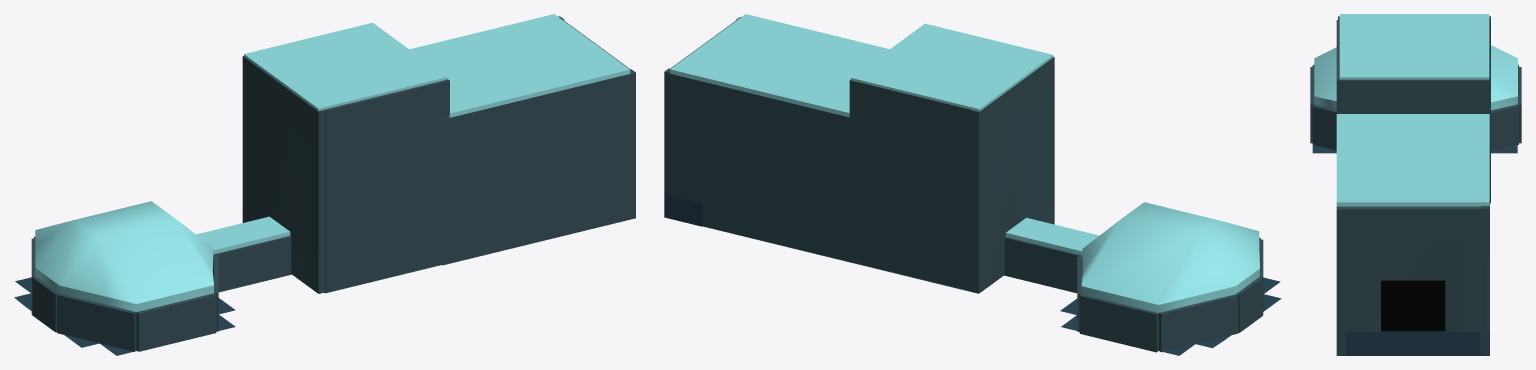
Rendered from TemplerInterior_4Unity_SceneOptimized.fbx.
3 views of the same model, side by side, from view 1: azimuth 30°, elevation 25°; view 2: azimuth 150°, elevation 25°; view 3: azimuth 270°, elevation 25° (orthographic).
Visible parts, largest first — view 1: Temple_Backroom_Walls, Temple_MainRoom_Walls, polySurface89, polySurface92, Garden_Walls, polySurface91, polySurface93, Garden_Floor; view 2: Temple_Backroom_Walls, Temple_MainRoom_Walls, polySurface89, polySurface92, Garden_Walls, polySurface91, polySurface93, Garden_Floor, Temple_Entry_Floor; view 3: Temple_MainRoom_Walls, polySurface92, polySurface91, Temple_Backroom_Walls, Temple_Entry_Floor, Black_Wall, polySurface89, Garden_Walls, Garden_Floor.
Part boxes in pixels (x1,y1,x2,y2): Temple_Backroom_Walls: (242, 56, 449, 293); Temple_MainRoom_Walls: (442, 16, 635, 265); polySurface89: (35, 201, 213, 311); polySurface92: (409, 14, 630, 117); Garden_Walls: (31, 236, 291, 351); polySurface91: (244, 22, 447, 110); polySurface93: (196, 216, 290, 254); Garden_Floor: (14, 277, 235, 355); Temple_Backroom_Walls: (849, 57, 1054, 293); Temple_MainRoom_Walls: (664, 17, 856, 263); polySurface89: (1081, 202, 1259, 312); polySurface92: (670, 14, 889, 117); Garden_Walls: (1004, 237, 1263, 352); polySurface91: (851, 23, 1053, 111); polySurface93: (1005, 217, 1099, 255); Garden_Floor: (1060, 277, 1281, 355); Temple_Entry_Floor: (664, 193, 702, 226); Temple_MainRoom_Walls: (1336, 206, 1489, 355); polySurface92: (1336, 114, 1489, 206); polySurface91: (1339, 14, 1489, 79); Temple_Backroom_Walls: (1336, 16, 1490, 259); Temple_Entry_Floor: (1345, 312, 1489, 355); Black_Wall: (1381, 280, 1445, 331); polySurface89: (1314, 45, 1517, 110); Garden_Walls: (1310, 65, 1521, 151); Garden_Floor: (1312, 104, 1517, 153).
Size of the model in its own units: 71.41 by 22.94 by 23.49.
